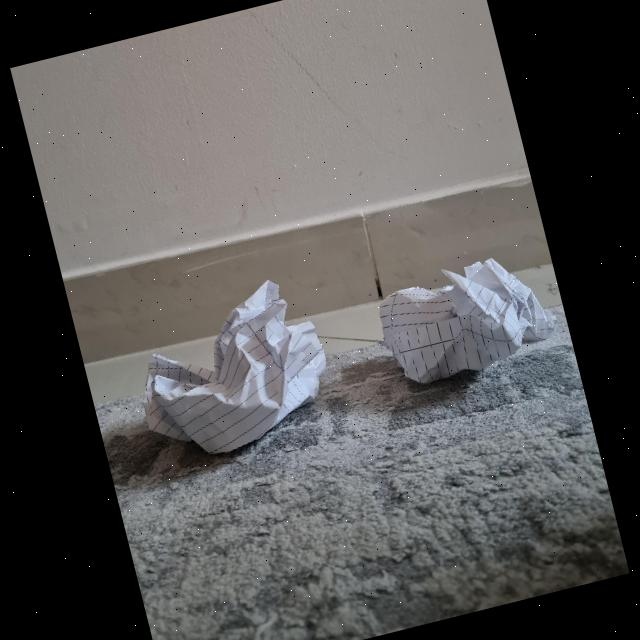trash: (114, 270, 339, 472), (364, 248, 557, 396)
